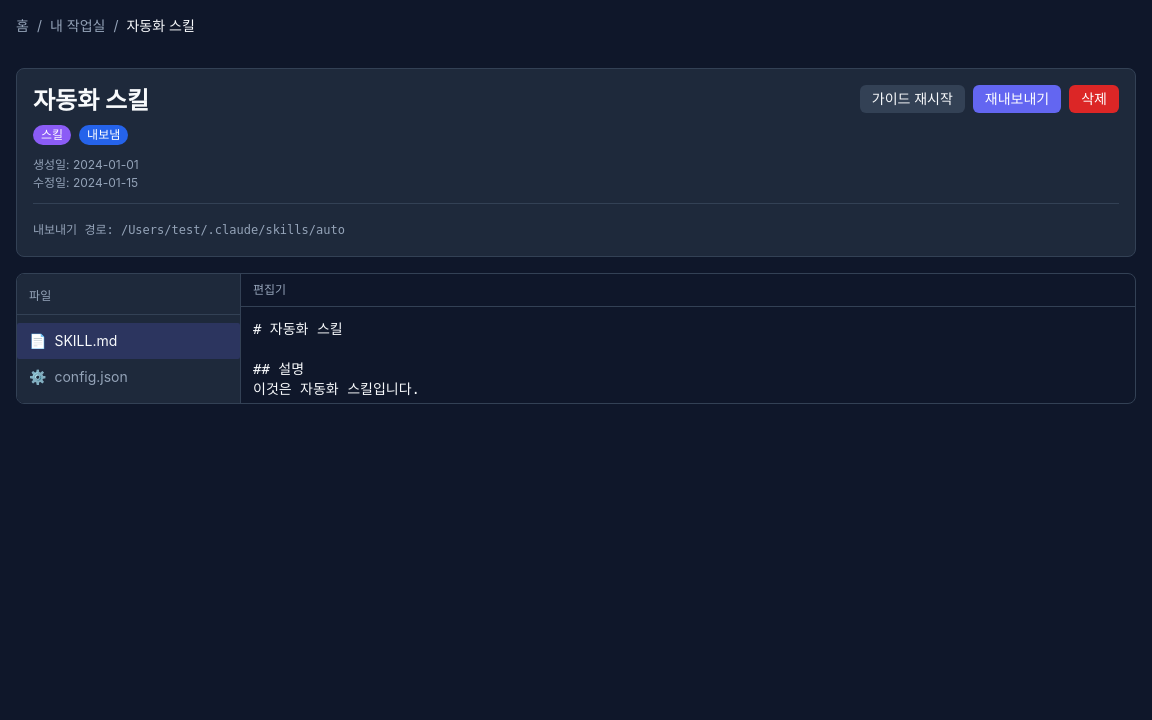
Test: WorkDetail Integration › 시나리오 3: 재내보내기 › 재내보내기 버튼 클릭 → 파일 내보내기 → 성공 토스트 표시
What coordinates should you click on to do the following:
click the button "재내보내기"
I would click on:
 (1017, 99)
Its box is [973,85,1061,113].
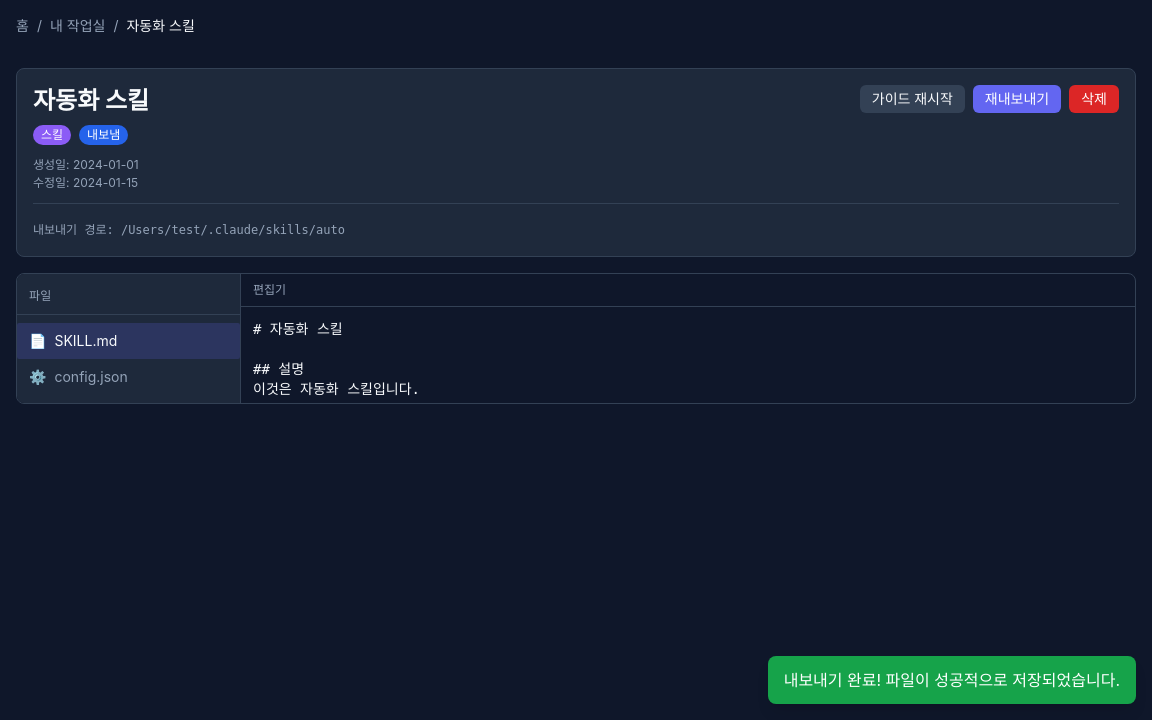
Expected: the text "내보내기 완료! 파일이 성공적으로 저장되었습니다." is shown, [768,656,1136,704]
